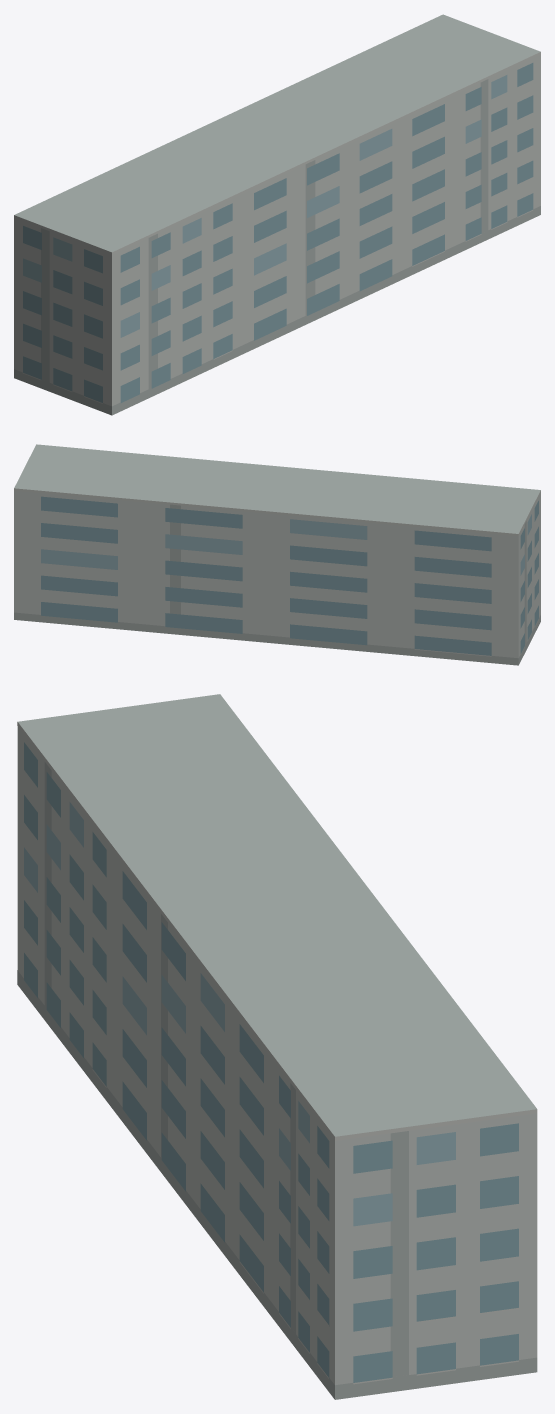
The model's file is residential-c7643e0e-ef46-4e80-9bc4-a81f30ffc58b.glb.
The picture shows the model from 3 angles, top to bottom: view 1: azimuth 30°, elevation 25°; view 2: azimuth 150°, elevation 25°; view 3: azimuth 270°, elevation 25°; orthographic projection. The views are drawn at different scales.
Visible parts, largest first — view 1: residential-c7643e0e-ef46-4e80-9bc4-a81f30ffc58b.tmp; view 2: residential-c7643e0e-ef46-4e80-9bc4-a81f30ffc58b.tmp; view 3: residential-c7643e0e-ef46-4e80-9bc4-a81f30ffc58b.tmp.
Part boxes in pixels (x1,y1,x2,y2): residential-c7643e0e-ef46-4e80-9bc4-a81f30ffc58b.tmp: [14, 14, 540, 415]; residential-c7643e0e-ef46-4e80-9bc4-a81f30ffc58b.tmp: [14, 444, 540, 665]; residential-c7643e0e-ef46-4e80-9bc4-a81f30ffc58b.tmp: [17, 694, 537, 1399].
Bounding box in the file's own units: 55.05 × 15.25 × 27.32.
